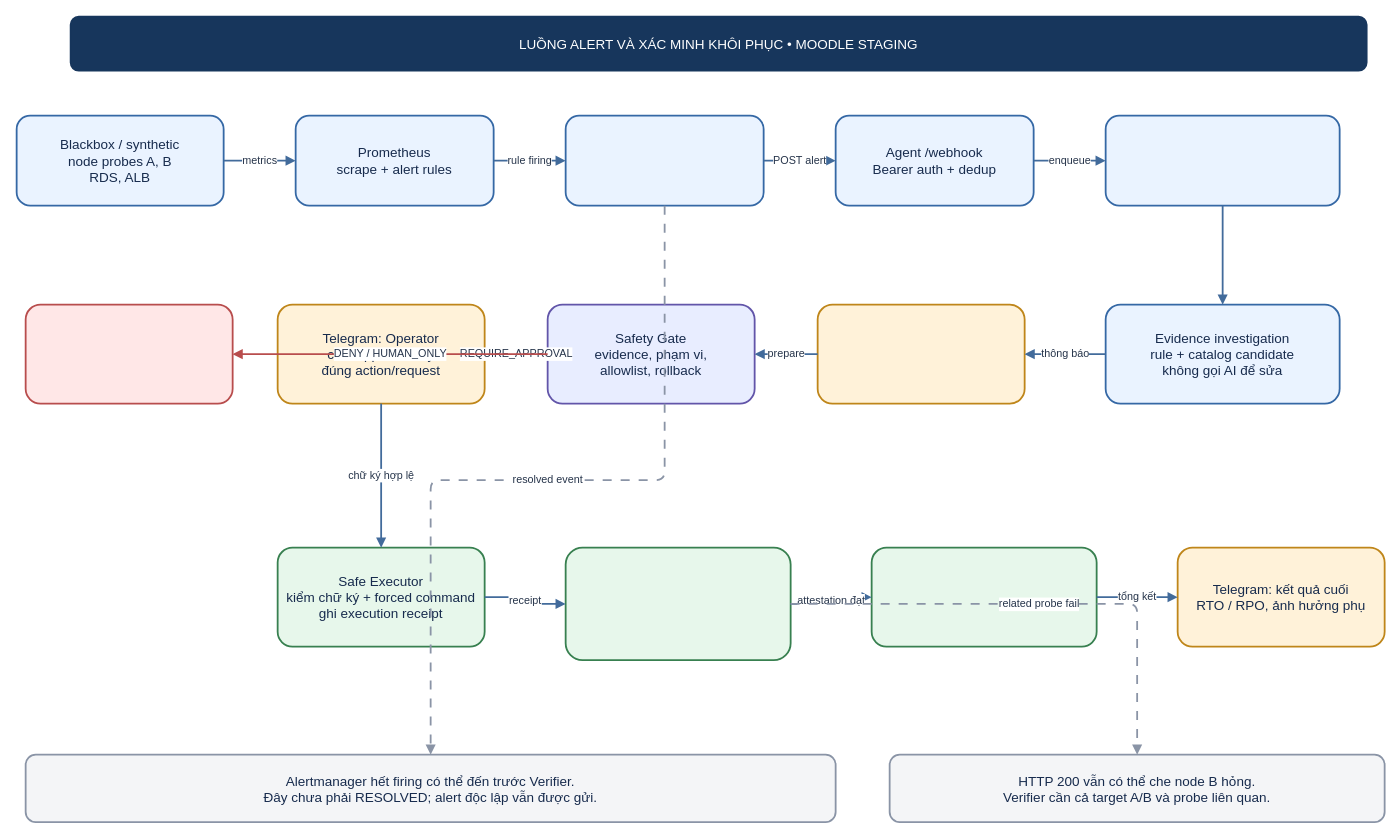
Image size: 1400x838. Some labels were removed from this diagram. Here are the shapes that lost their labels. From the top down, the centre of each, then its label:
point (664, 160): Alertmanager firing / resolved
point (1222, 160): Redis + Celery worker process_alerts_task
point (128, 353): DENY / HUMAN_ONLY Telegram báo lý do; không dispatch
point (920, 353): Telegram: lỗi, nguyên nhân, phương án ngắn gọn
point (677, 603): Independent Verifier 3 mẫu / ≥120 giây allowed + forbidden + related
point (983, 596): Agent nhận attestation ký chỉ lúc đạt mới RESOLVED
